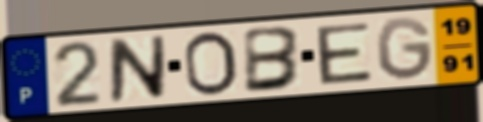2: (50, 39, 104, 110)
B: (242, 24, 304, 95)
E: (312, 20, 375, 86)
G: (374, 15, 436, 83)
N: (107, 33, 168, 104)
O: (181, 30, 242, 99)
